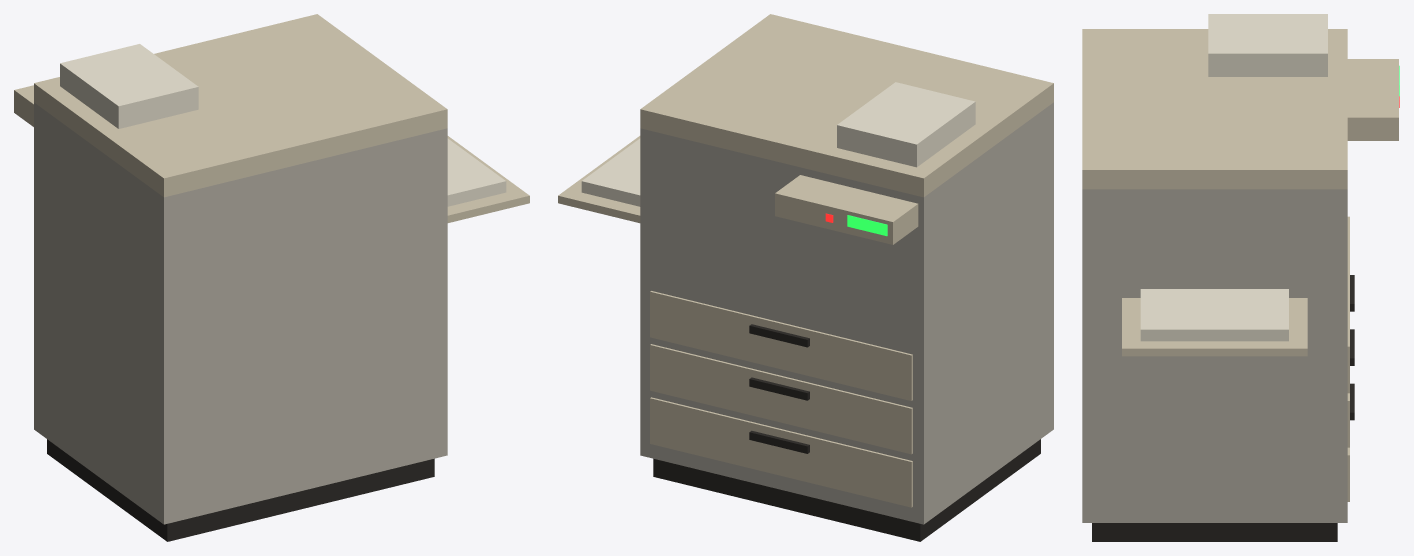
Rendered from SM_80s_Copier.glb.
3 renders of one model, left to right at view 1: azimuth 30°, elevation 25°; view 2: azimuth 150°, elevation 25°; view 3: azimuth 270°, elevation 25°, orthographic.
Visible parts, largest first — view 1: SM_80s_Copier; view 2: SM_80s_Copier; view 3: SM_80s_Copier.
Part boxes in pixels (x1,y1,x2,y2): SM_80s_Copier: (14,14,529,541); SM_80s_Copier: (558,14,1053,541); SM_80s_Copier: (1082,14,1399,541).
Size of the model in its own units: 1.4 by 1.36 by 0.9794.
